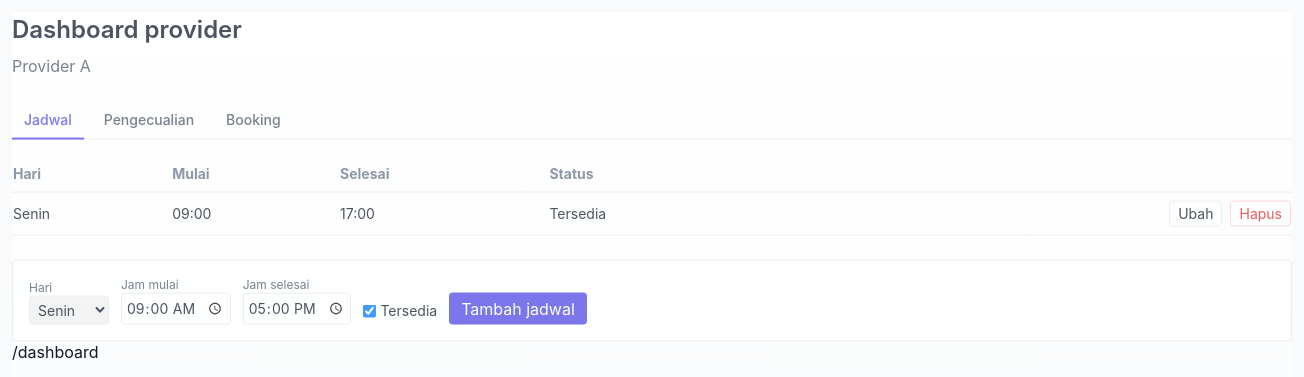
Test: ProviderDashboardPage › confirms a pending booking
Click the tab "Booking" at (253, 121), box left=214, top=102, right=293, bottom=140
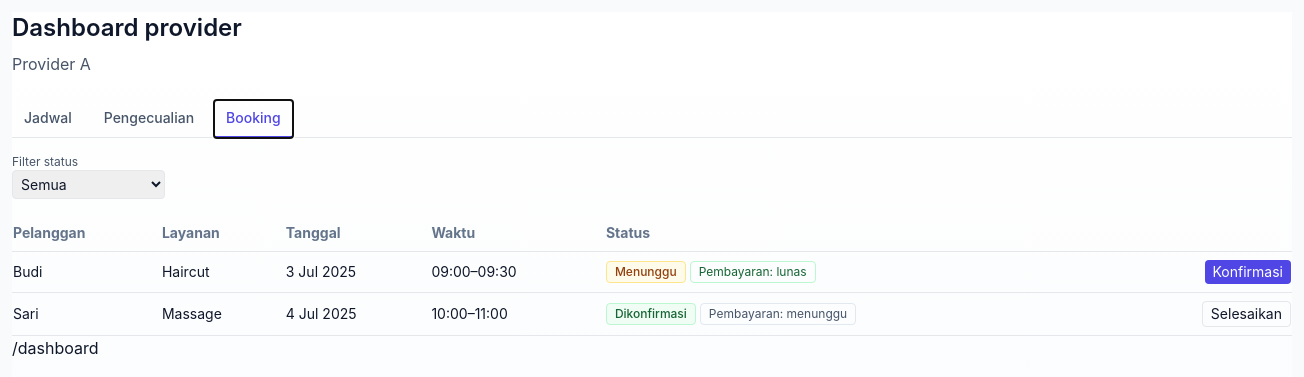
Expected: the row with test id "provider-booking-201" shows "Budi", left=13, top=263, right=42, bottom=280
Expected: the row with test id "provider-booking-201" shows "Menunggu", left=615, top=264, right=677, bottom=279
Click the button with aria-label "Konfirmasi booking Budi" at (1248, 272), box left=1204, top=260, right=1291, bottom=284
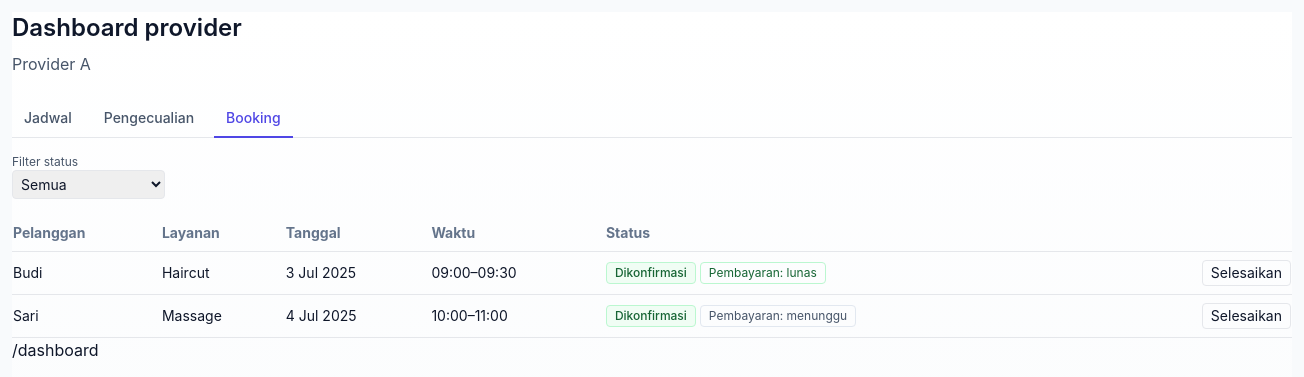
Expected: the row with test id "provider-booking-201" shows "Dikonfirmasi", left=615, top=265, right=687, bottom=280
